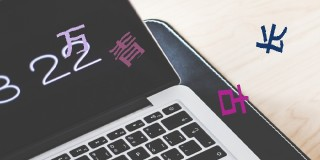万: (56, 24, 89, 56)
古: (217, 83, 249, 116)
长: (256, 23, 288, 55)
青: (108, 32, 145, 67)
